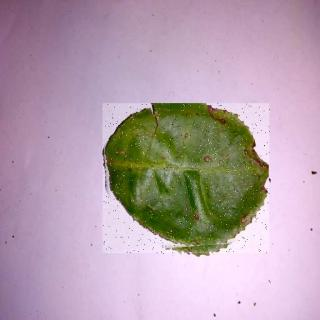Bird Eye Spot: (104, 105, 271, 255)
